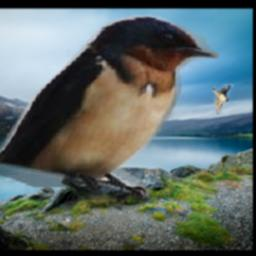Sparrow: (213, 84, 234, 114)
Swallow: (0, 15, 219, 201)
